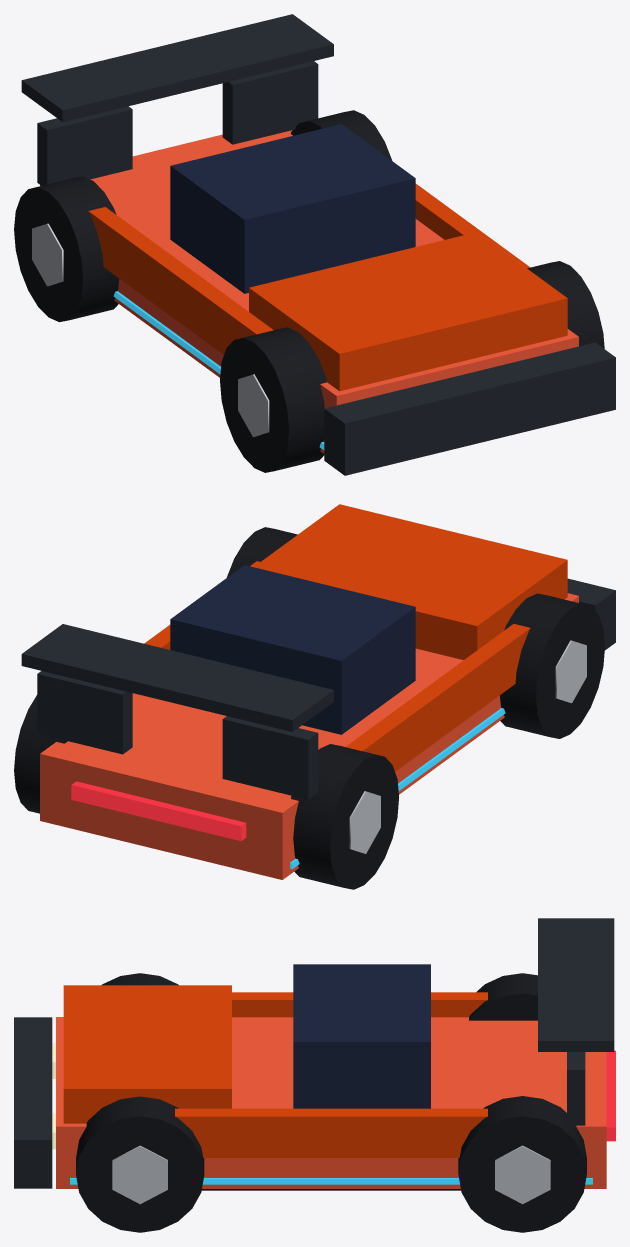
Rendered from bot_speedster.glb.
The picture shows the model from 3 angles, top to bottom: view 1: azimuth 30°, elevation 25°; view 2: azimuth 150°, elevation 25°; view 3: azimuth 270°, elevation 25°; orthographic projection. The views are drawn at different scales.
Parts seen in each view (by area): view 1: bot_speedster; view 2: bot_speedster; view 3: bot_speedster.
Part boxes in pixels (<box>): bot_speedster: <box>14,14,615,475</box>; bot_speedster: <box>14,504,615,889</box>; bot_speedster: <box>14,918,615,1232</box>.
Bounding box in the file's own units: 2.24 × 1.31 × 3.93.
